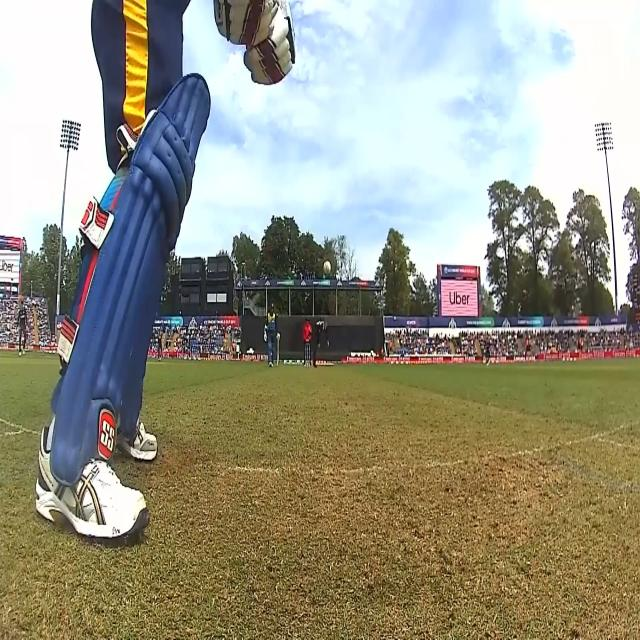ball: (320, 258, 334, 276)
